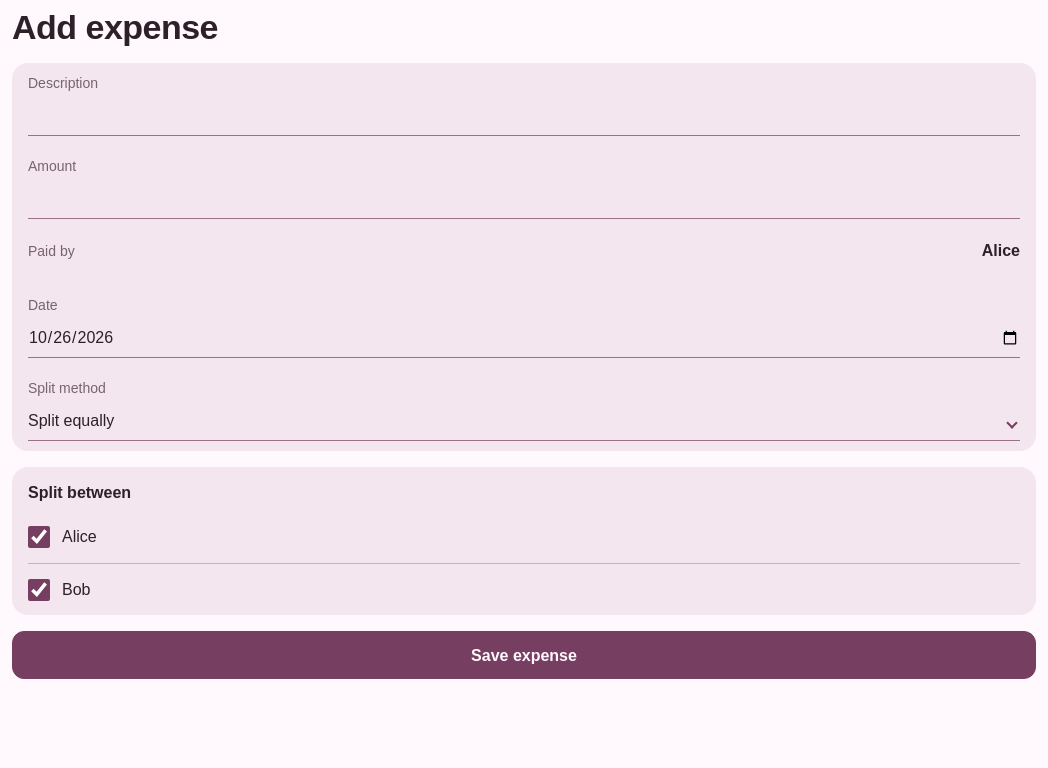
Test case: ExpenseEditorPage › shows a translated message for allocation_mismatch
In the field labelled "Description": (524, 116) [28, 96, 1020, 136], type "Dinner"
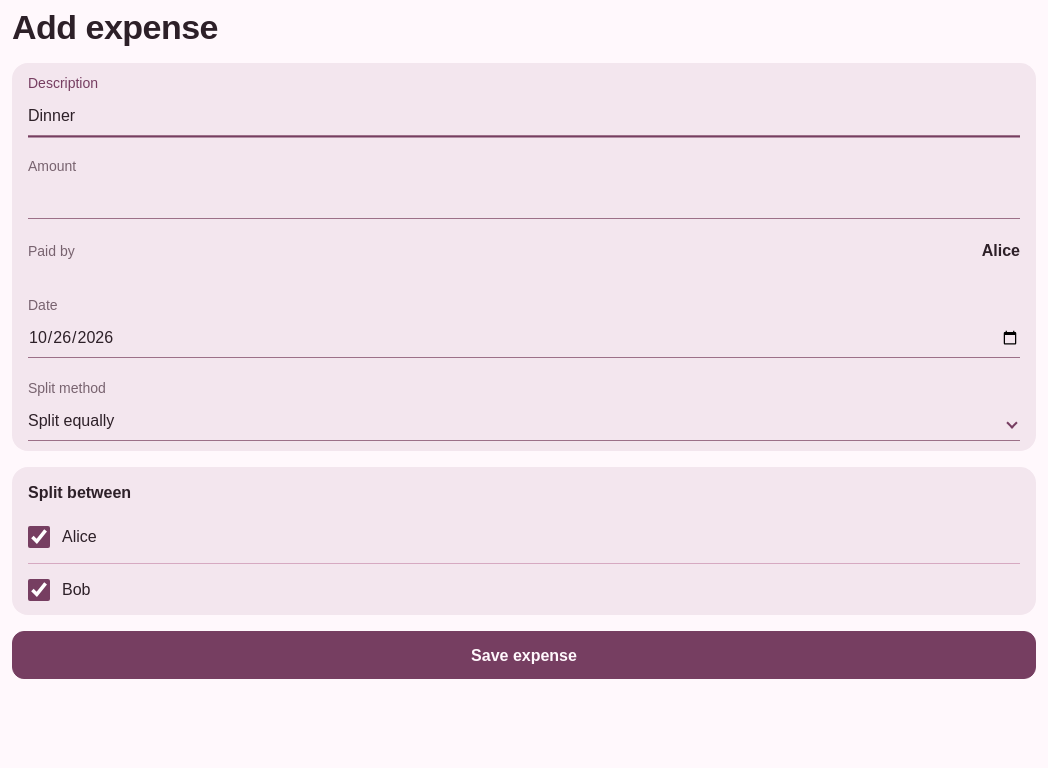
In the field labelled "Amount": (524, 199) [28, 179, 1020, 219], type "10.01"
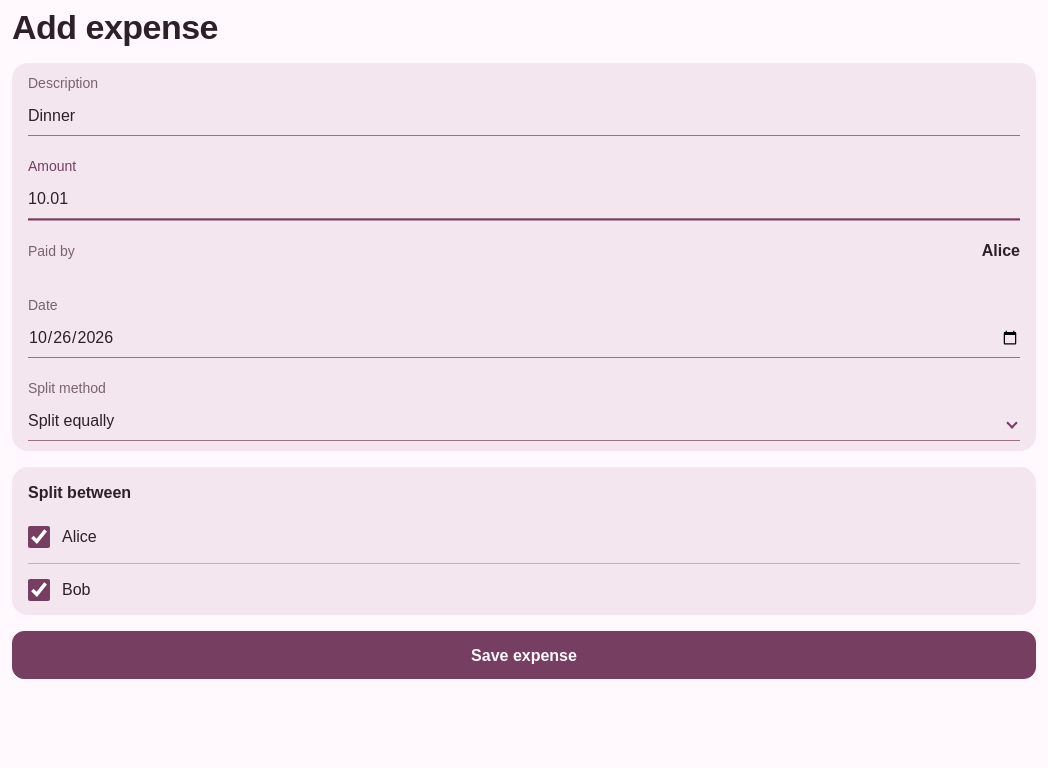
Click the button "Save expense": click(524, 655) [12, 631, 1036, 679]
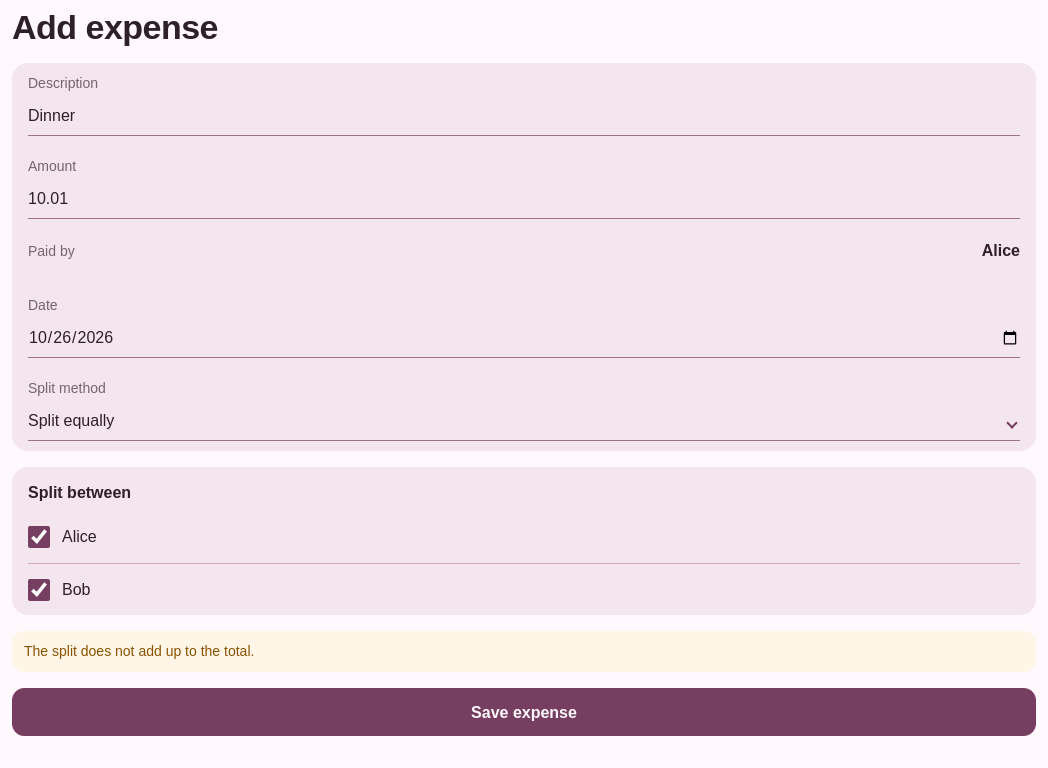
Expected: the message reads "The split does not add up to the total.", [24, 643, 254, 659]
